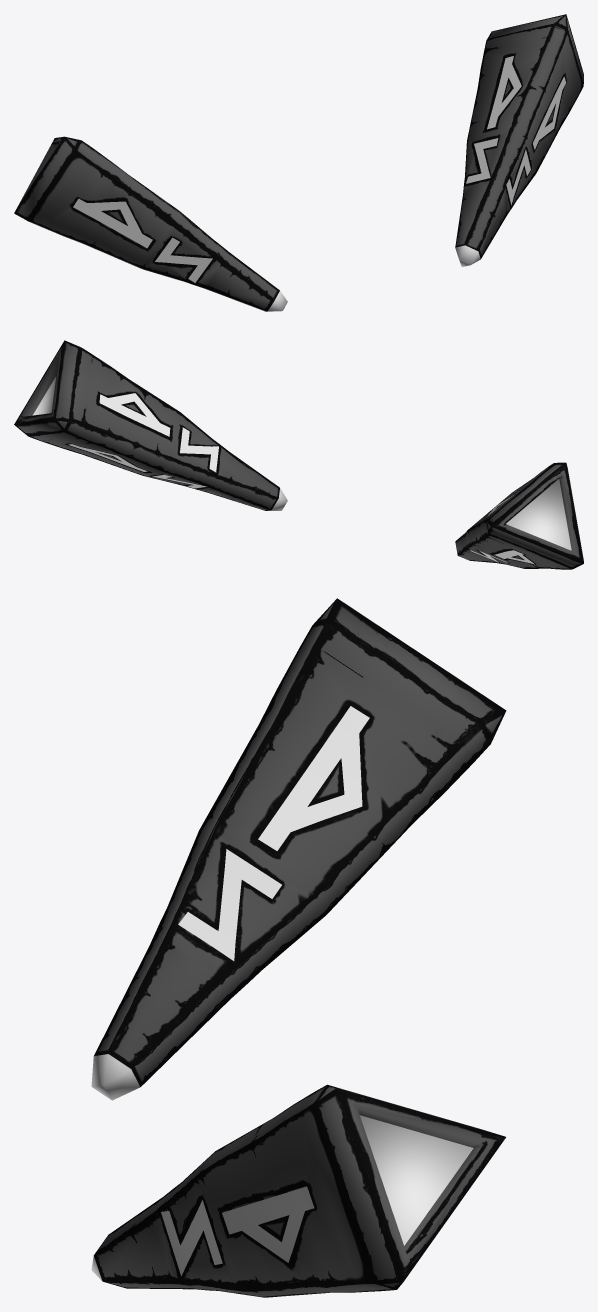
Rendered from Pyramidvingar.fbx.
The picture shows the model from 3 angles, top to bottom: view 1: azimuth 30°, elevation 25°; view 2: azimuth 150°, elevation 25°; view 3: azimuth 270°, elevation 25°; orthographic projection. The views are drawn at different scales.
Visible parts, largest first — view 1: Cylinder.001; view 2: Cylinder.001; view 3: Cylinder.001.
Boxes of the visible parts, x1,y1,x2,y2 form: Cylinder.001: (14,14,583,311); Cylinder.001: (14,340,583,569); Cylinder.001: (91,598,506,1297).
Size of the model in its own units: 561 by 163 by 177.
